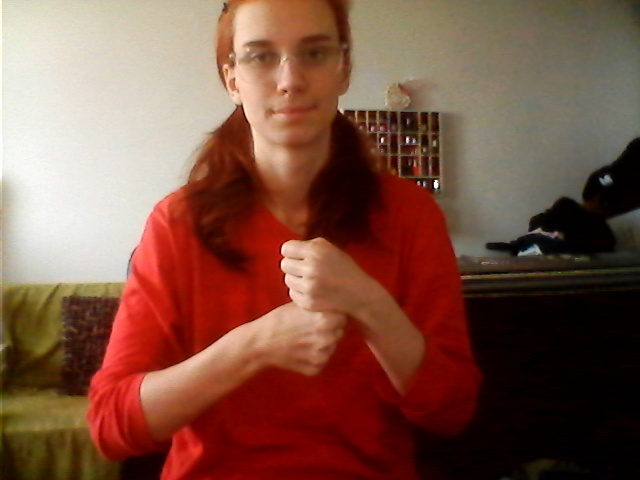g: (252, 231, 369, 392)
